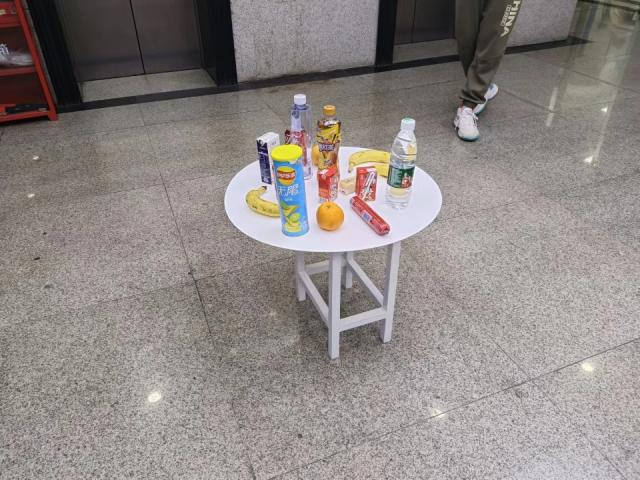bottle: (387, 118, 418, 213), (288, 93, 314, 182)
cylinder: (271, 144, 313, 238)
drink_box: (256, 131, 282, 185), (317, 166, 339, 202), (356, 165, 378, 201)
